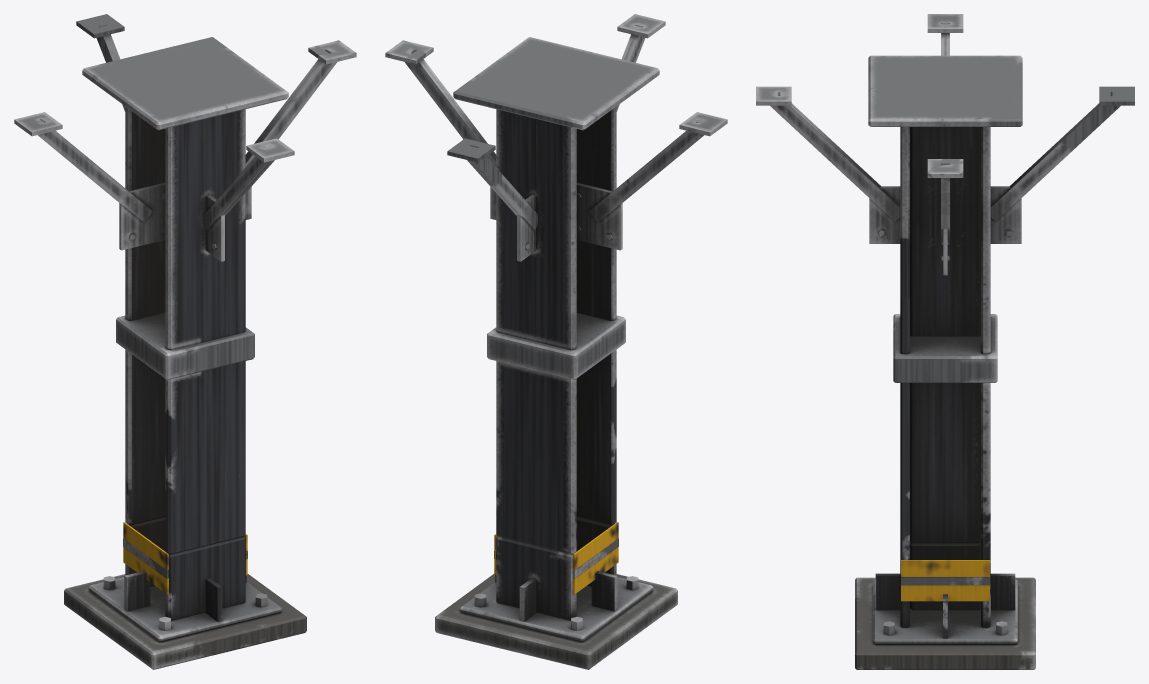
File: nodexeus-set-post-3.glb
The picture shows the model from 3 angles, left to right: view 1: azimuth 30°, elevation 25°; view 2: azimuth 150°, elevation 25°; view 3: azimuth 270°, elevation 25°; orthographic projection.
Visible parts, largest first — view 1: set-post-3; view 2: set-post-3; view 3: set-post-3.
Part boxes in pixels (x1,y1,x2,y2): set-post-3: (14, 14, 356, 669); set-post-3: (385, 14, 727, 669); set-post-3: (756, 14, 1134, 669).
Bounding box in the file's own units: 2.55 × 4.05 × 2.55.
Materials: 1 (1 with a texture image).
